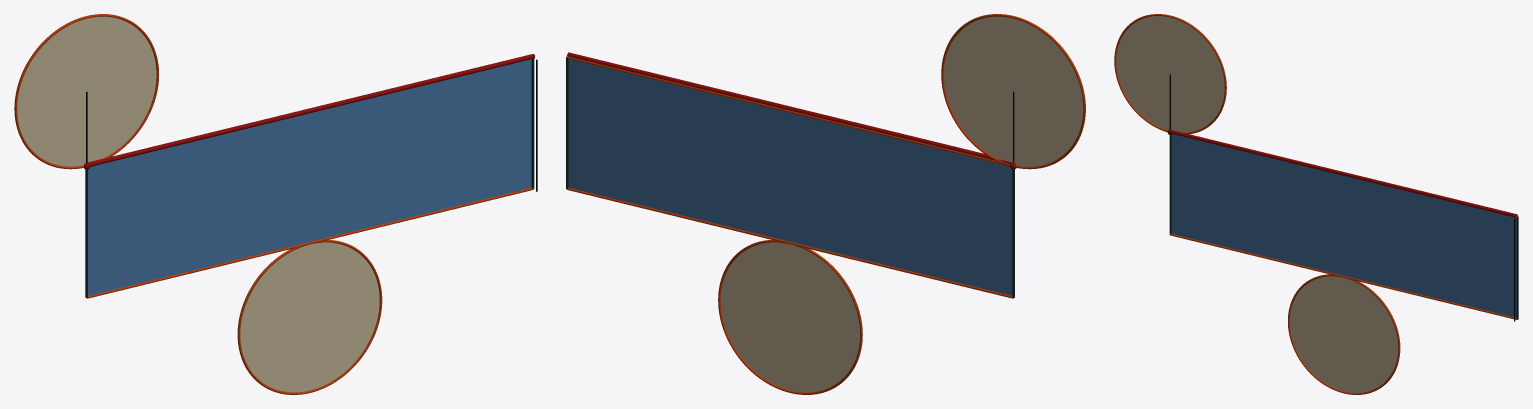
Rendered from cylinder-net.obj.
3 views of the same model, side by side, from view 1: azimuth 30°, elevation 25°; view 2: azimuth 150°, elevation 25°; view 3: azimuth 330°, elevation 25° (orthographic). The views are drawn at different scales.
Visible parts, largest first — view 1: lateral_surface, base_bottom, base_top, roll_trace, edge_bottom_circumference, base_bottom_rim, base_top_rim, edge_cut_right; view 2: lateral_surface, base_bottom, base_top, roll_trace, edge_bottom_circumference, base_top_rim, base_bottom_rim, edge_top_circumference; view 3: lateral_surface, base_bottom, base_top, roll_trace, edge_bottom_circumference, base_top_rim, base_bottom_rim.
Part boxes in pixels (x1,y1,x2,y2): lateral_surface: (88, 59, 531, 295); base_bottom: (240, 242, 379, 392); base_top: (17, 16, 156, 166); roll_trace: (88, 54, 534, 166); edge_bottom_circumference: (86, 187, 533, 298); base_bottom_rim: (237, 240, 382, 394); base_top_rim: (14, 14, 158, 169); edge_cut_right: (531, 58, 534, 188); lateral_surface: (568, 59, 1012, 295); base_bottom: (720, 242, 859, 392); base_top: (943, 16, 1083, 166); roll_trace: (567, 52, 1011, 163); edge_bottom_circumference: (566, 187, 1013, 298); base_top_rim: (941, 14, 1085, 169); base_bottom_rim: (718, 240, 862, 394); edge_top_circumference: (566, 56, 1009, 166); lateral_surface: (1171, 134, 1516, 317); base_bottom: (1289, 276, 1398, 392); base_top: (1116, 16, 1224, 132); roll_trace: (1169, 129, 1517, 217); edge_bottom_circumference: (1170, 233, 1517, 319); base_top_rim: (1114, 14, 1226, 134); base_bottom_rim: (1288, 274, 1400, 394).
Size of the model in its own units: 9.51 by 7.55 by 0.188.
